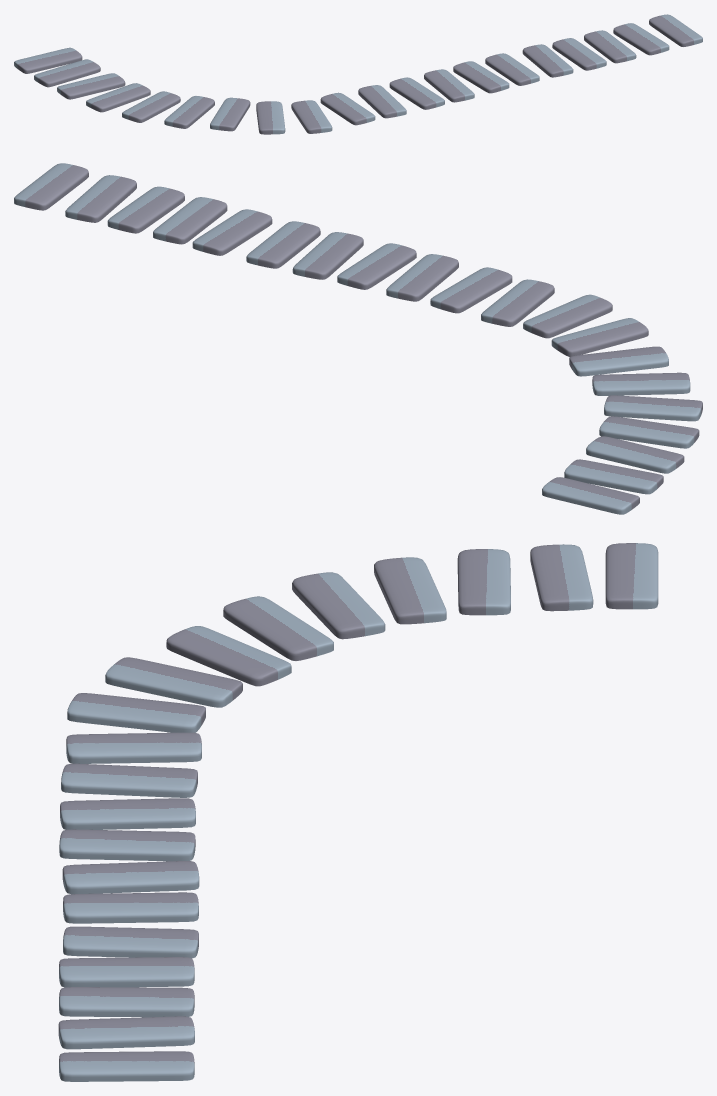
Rendered from camino.fbx.
The picture shows the model from 3 angles, top to bottom: view 1: azimuth 30°, elevation 25°; view 2: azimuth 150°, elevation 25°; view 3: azimuth 270°, elevation 25°; orthographic projection. The views are drawn at different scales.
Parts seen in each view (by area): view 1: camino; view 2: camino; view 3: camino.
Part boxes in pixels (x1,y1,x2,y2): camino: (14, 14, 702, 134); camino: (14, 163, 702, 514); camino: (58, 543, 658, 1081).
Size of the model in its own units: 1356 by 12.09 by 649.
